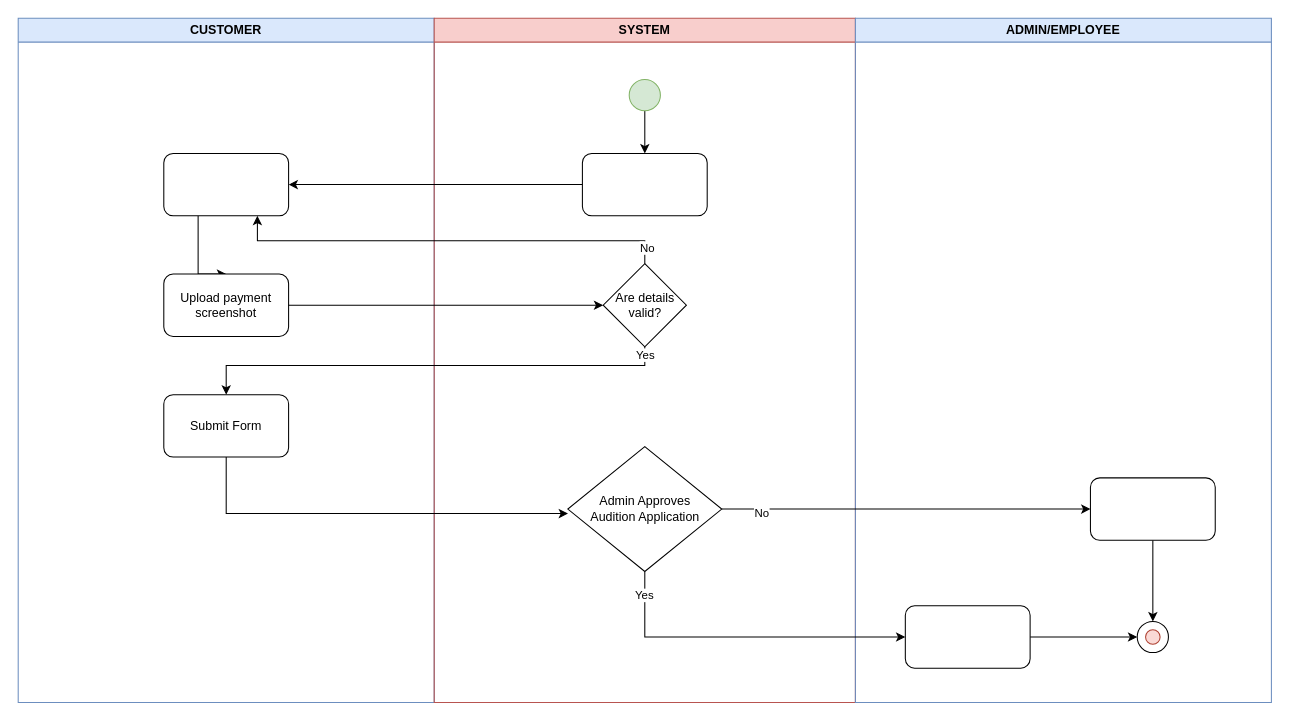
This 1290x721 diagram has some shape labels left out. The centre of each missing label's shape, as x and y in pixels:
"Audition Page" belongs at point (644, 184).
"Contact Applicant" belongs at point (967, 636).
"Inform Applicant" belongs at point (1152, 508).
"Input Auditionee Details" belongs at point (226, 184).
